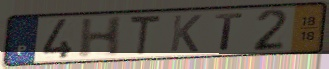2: (251, 8, 289, 53)
4: (39, 17, 75, 61)
H: (76, 15, 126, 60)
K: (168, 13, 204, 53)
T: (127, 13, 163, 57), (214, 12, 245, 52)
